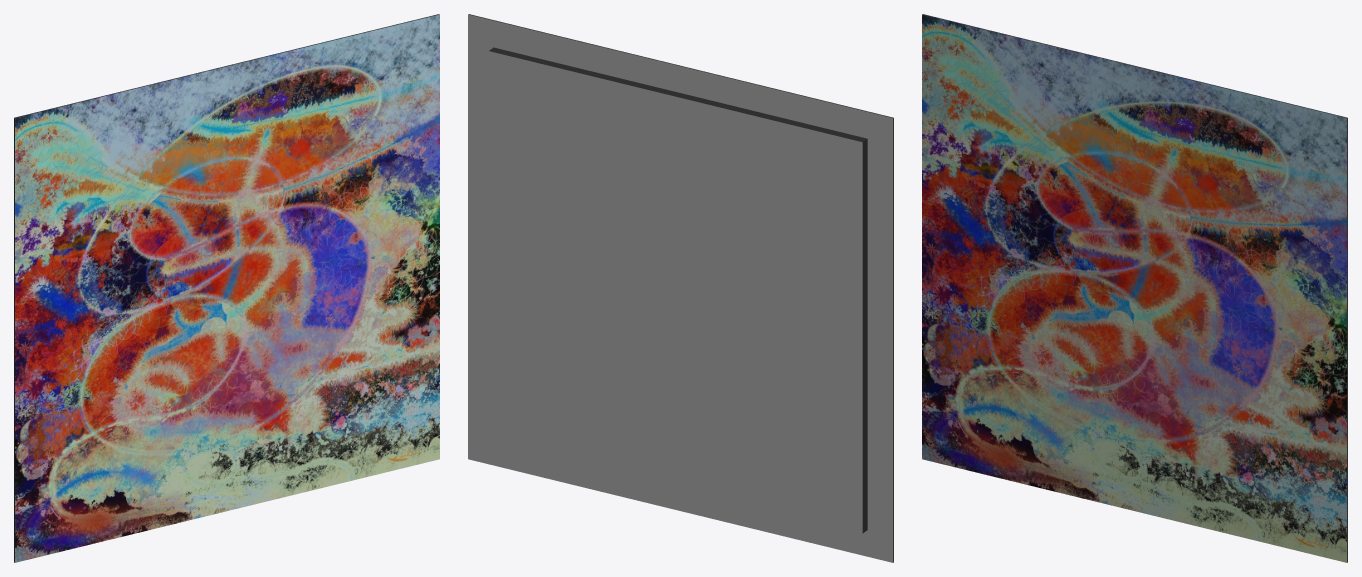
The model's file is va178_grand_dibond.glb.
3 views of the same model, side by side, from view 1: azimuth 30°, elevation 25°; view 2: azimuth 150°, elevation 25°; view 3: azimuth 330°, elevation 25° (orthographic).
Parts seen in each view (by area): view 1: va178_grand_dibond; view 2: va178_grand_dibond; view 3: va178_grand_dibond.
Part boxes in pixels (bbox=[...]): va178_grand_dibond: bbox=[14, 14, 439, 562]; va178_grand_dibond: bbox=[468, 14, 893, 562]; va178_grand_dibond: bbox=[922, 14, 1347, 562].
Size of the model in its own units: 1 by 1 by 0.023.
4 materials, 1 textured.
